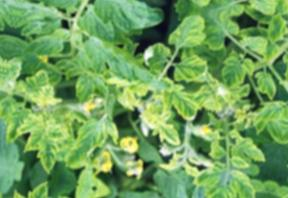Tomato leaf yellow virus: (60, 103, 121, 175), (159, 6, 212, 60), (161, 81, 205, 128), (213, 47, 256, 92), (167, 47, 213, 89), (245, 93, 287, 130), (248, 60, 281, 101), (224, 131, 266, 163), (145, 118, 186, 150), (18, 64, 50, 104), (0, 104, 31, 145), (221, 167, 261, 198), (34, 118, 76, 143), (31, 140, 61, 173), (186, 162, 218, 190), (198, 175, 235, 198)
